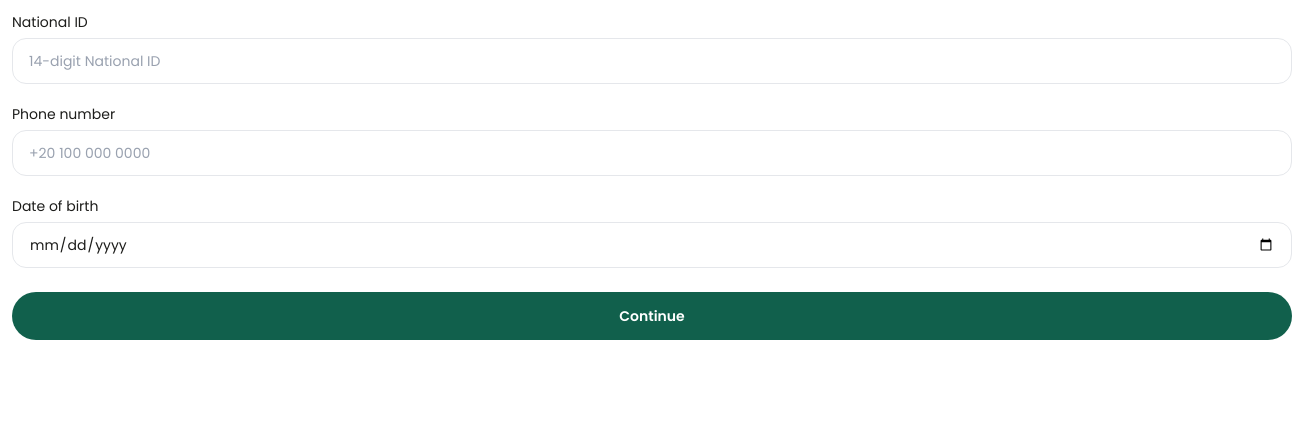
Test case: PatientForgotPasswordForm › advances to step 2 and shows the verified security question
This screenshot has width=1304, height=447.
Type "12345678901234" into the field labelled "National ID".
click(652, 61); type("12345678901234")  # box [12,38,1292,84]
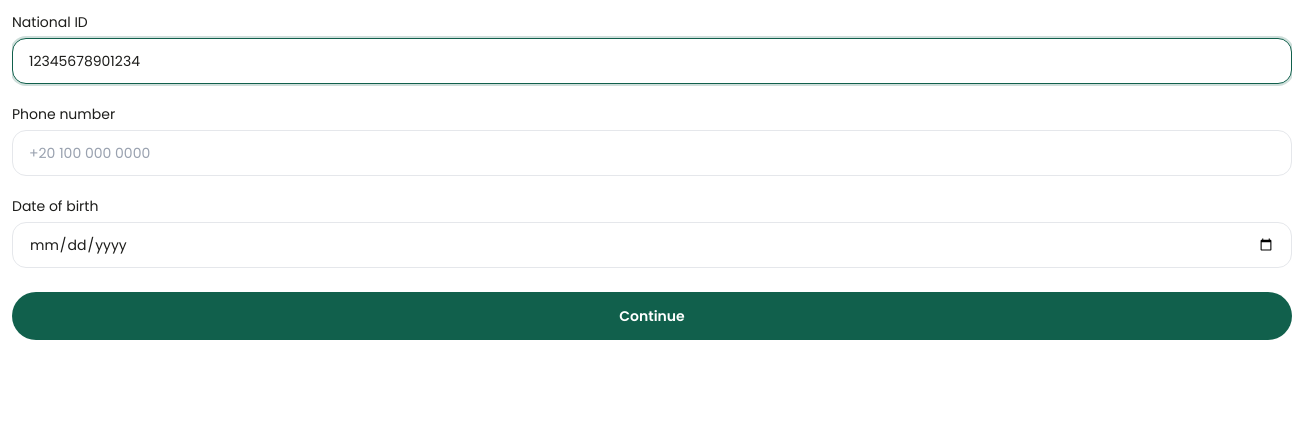
Type "01012345678" into the field labelled "Phone number".
click(652, 153); type("01012345678")  # box [12,130,1292,176]
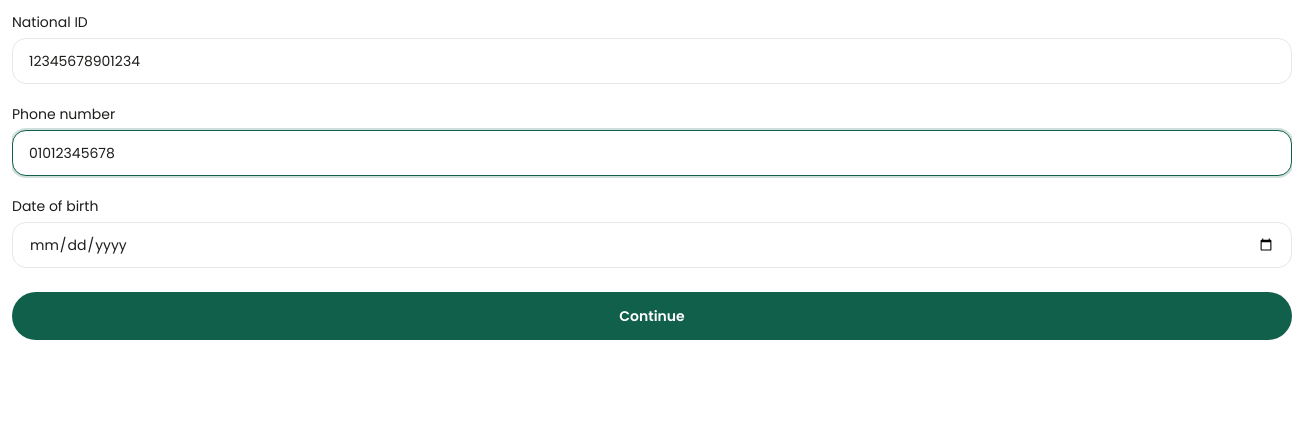
Type "1990-01-01" into the date field labelled "Date of birth".
click(652, 245); type("1990-01-01")  # box [12,222,1292,268]
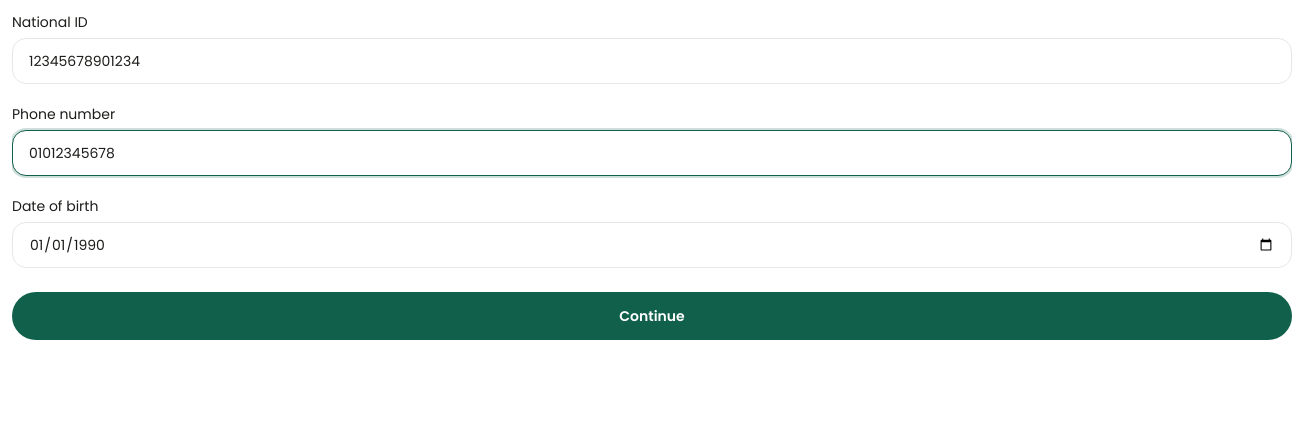
Click the button "Continue".
click(652, 316)  # box [12,292,1292,340]
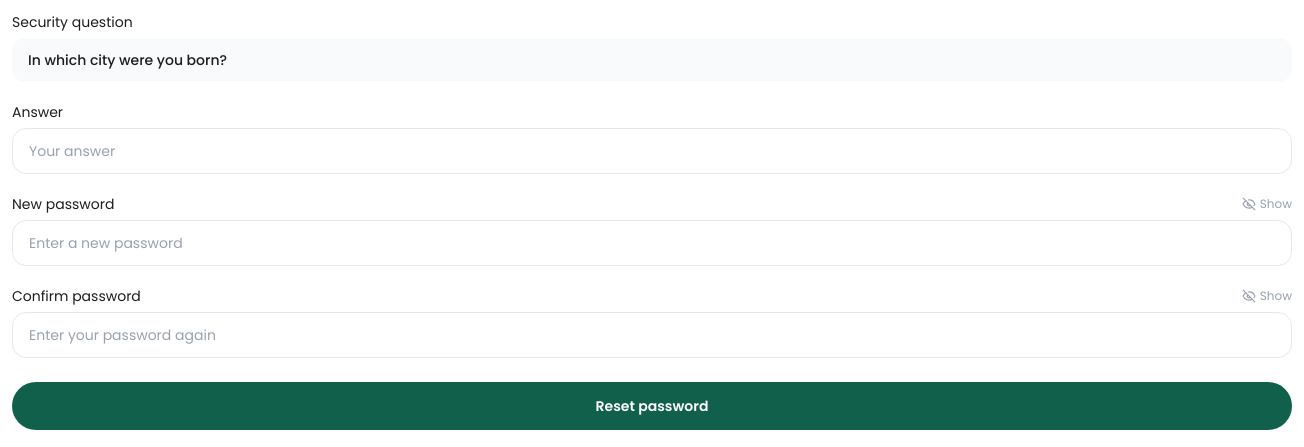
expect the text "In which city were you born?" is shown: met, box [12,38,1292,82]
expect the button "Reset password" is shown: met, box [12,382,1292,430]
